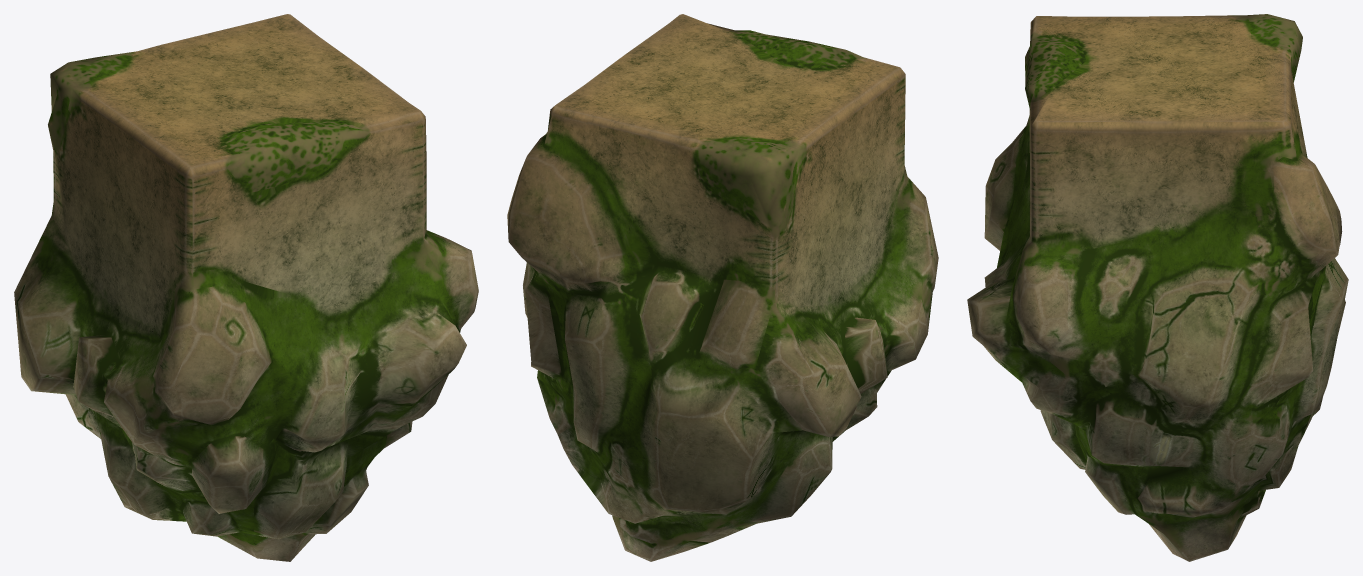
Rendered from Rune_03_low_03.fbx.
The picture shows the model from 3 angles, left to right: view 1: azimuth 30°, elevation 25°; view 2: azimuth 150°, elevation 25°; view 3: azimuth 270°, elevation 25°; orthographic projection. The views are drawn at different scales.
Visible parts, largest first — view 1: Rune_03_low_03; view 2: Rune_03_low_03; view 3: Rune_03_low_03.
Part boxes in pixels (x1,y1,x2,y2): Rune_03_low_03: (14, 14, 478, 561); Rune_03_low_03: (507, 14, 938, 561); Rune_03_low_03: (967, 14, 1348, 561).
Size of the model in its own units: 2.96 by 3.96 by 2.93.
Materials: 1 (1 with a texture image).
